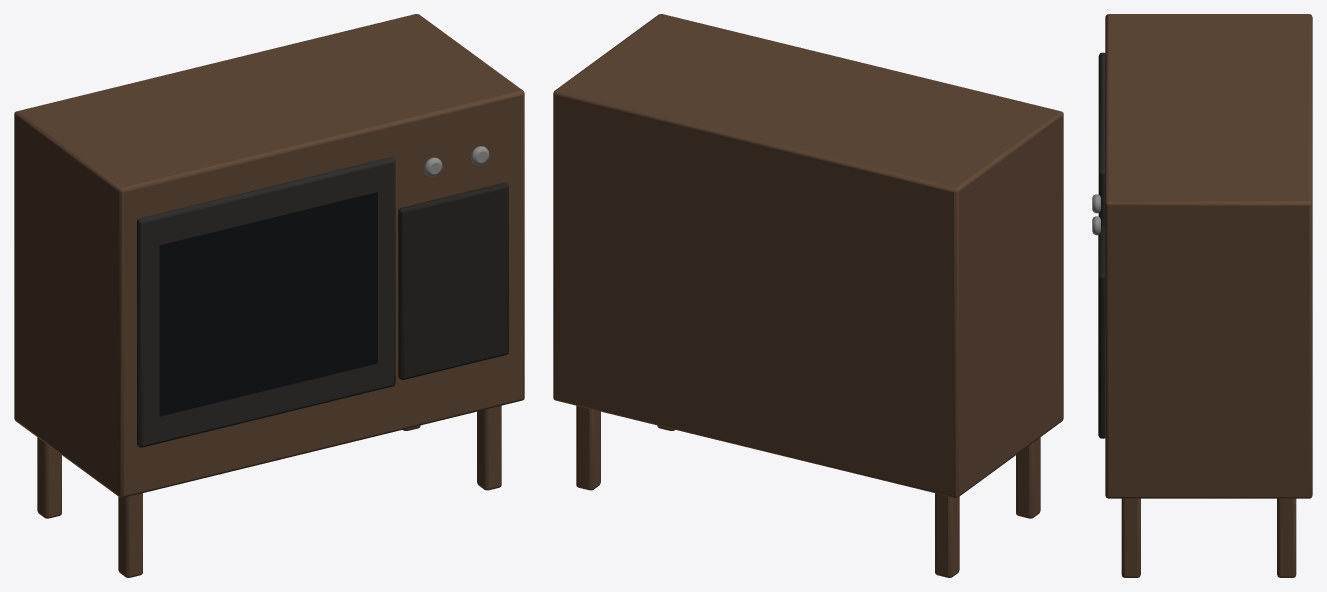
The model's file is SM_F_TV_Console.fbx.
3 views of the same model, side by side, from view 1: azimuth 30°, elevation 25°; view 2: azimuth 150°, elevation 25°; view 3: azimuth 270°, elevation 25° (orthographic). The views are drawn at different scales.
Visible parts, largest first — view 1: SM_F_TV_Console__Body, SM_F_TV_Console__Screen; view 2: SM_F_TV_Console__Body; view 3: SM_F_TV_Console__Body.
Boxes of the visible parts, box(x1,y1,x2,y2) form: SM_F_TV_Console__Body: box(14, 14, 524, 577); SM_F_TV_Console__Screen: box(159, 192, 377, 416); SM_F_TV_Console__Body: box(553, 14, 1063, 577); SM_F_TV_Console__Body: box(1092, 14, 1312, 577).
Bounding box in the file's own units: 1.04 × 0.98 × 0.51.
